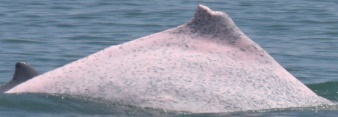fin: (6, 1, 331, 112)
